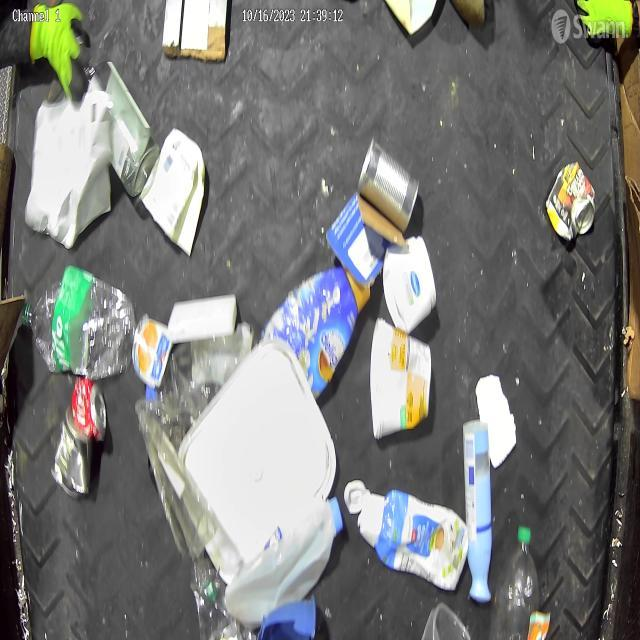can: (356, 137, 419, 234), (544, 159, 598, 243), (50, 408, 94, 498), (70, 374, 109, 442)
milk_jug: (225, 494, 344, 630)
plastic_bottle: (21, 265, 136, 380), (488, 524, 540, 640)
